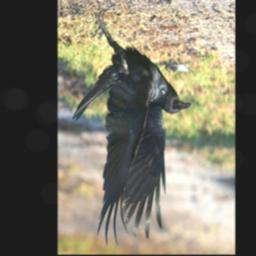Crow: (72, 8, 192, 248)
